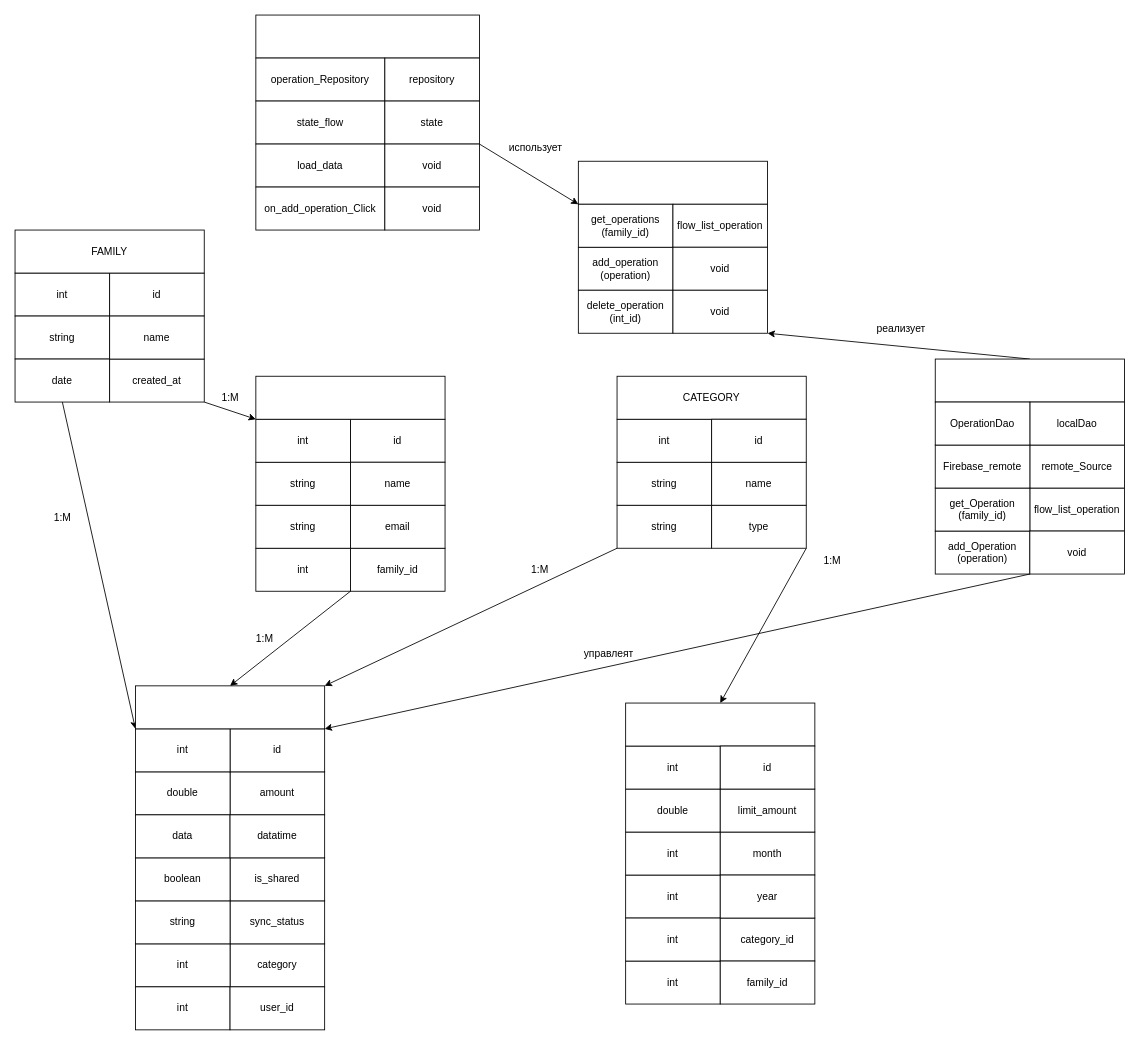
Image size: 1140x1045. Some labels were removed from this diagram. Each missing label, with the centre of its shape:
BUDGET: [720,724]
DashboardViewModel: [367,36]
OPERATION: [230,707]
OperationRepository (интерфейс): [672,182]
OperationRepositoryImpl (класс, реализующий интерфейс): [1029,380]
USER: [350,397]
